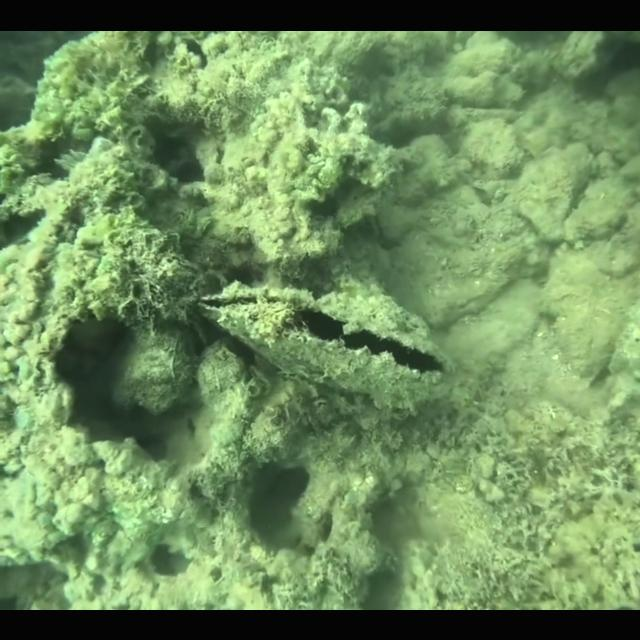Oyster-Open: (199, 276, 455, 408)
